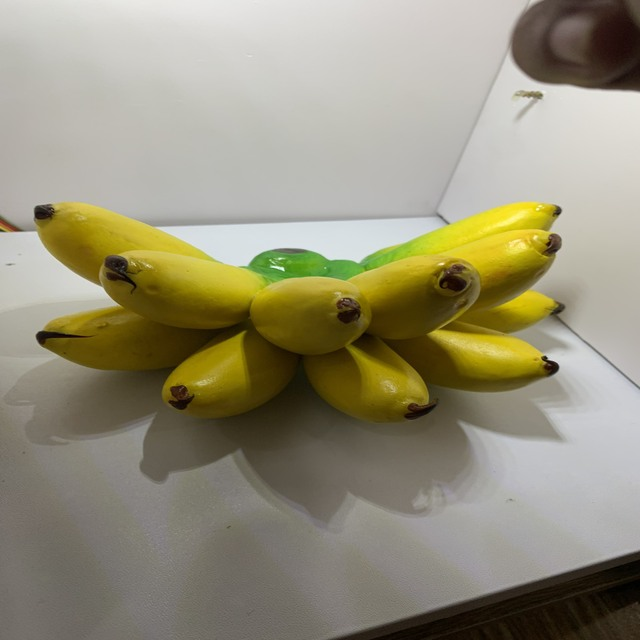Chuoi: (24, 192, 564, 432)
